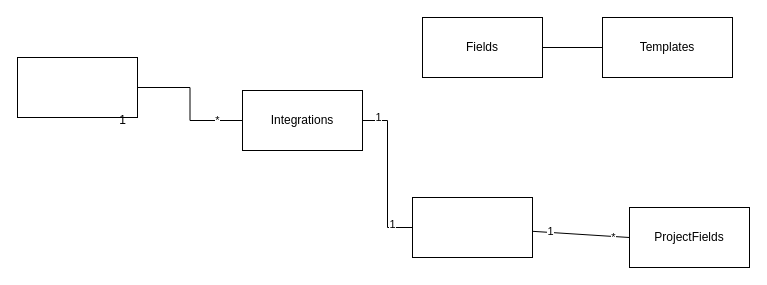
This 767x285 diagram has some shape labels left out. Each missing label, with the centre of its shape:
"Projects" goes at point (472, 227).
"User" goes at point (77, 87).
